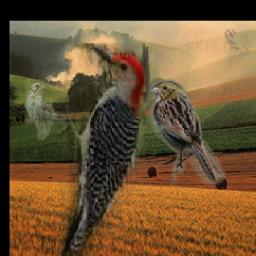Sparrow: (149, 79, 225, 185), (24, 80, 67, 141)
Woodpecker: (57, 43, 146, 256)
